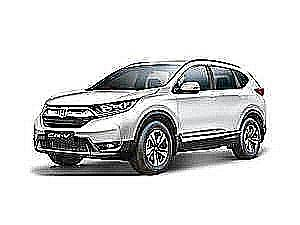Car hood: (44, 86, 161, 109)
Fender - -F-L-: (132, 79, 182, 144)
Fender - -R-L-: (246, 91, 263, 126)
Front bumper: (31, 115, 150, 163)
Headlight - -L-: (87, 94, 141, 119)
Headlight - -R-: (34, 99, 51, 118)
Passenger-s door - -F-L-: (182, 63, 219, 140)
Passenger-s door - -R-L-: (212, 63, 250, 140)
Rear bumper: (259, 103, 271, 142)
Rear light - -L-: (247, 68, 267, 97)
Side bumper - -L-: (171, 127, 242, 156)
Side mirror - -L-: (173, 78, 201, 96)
